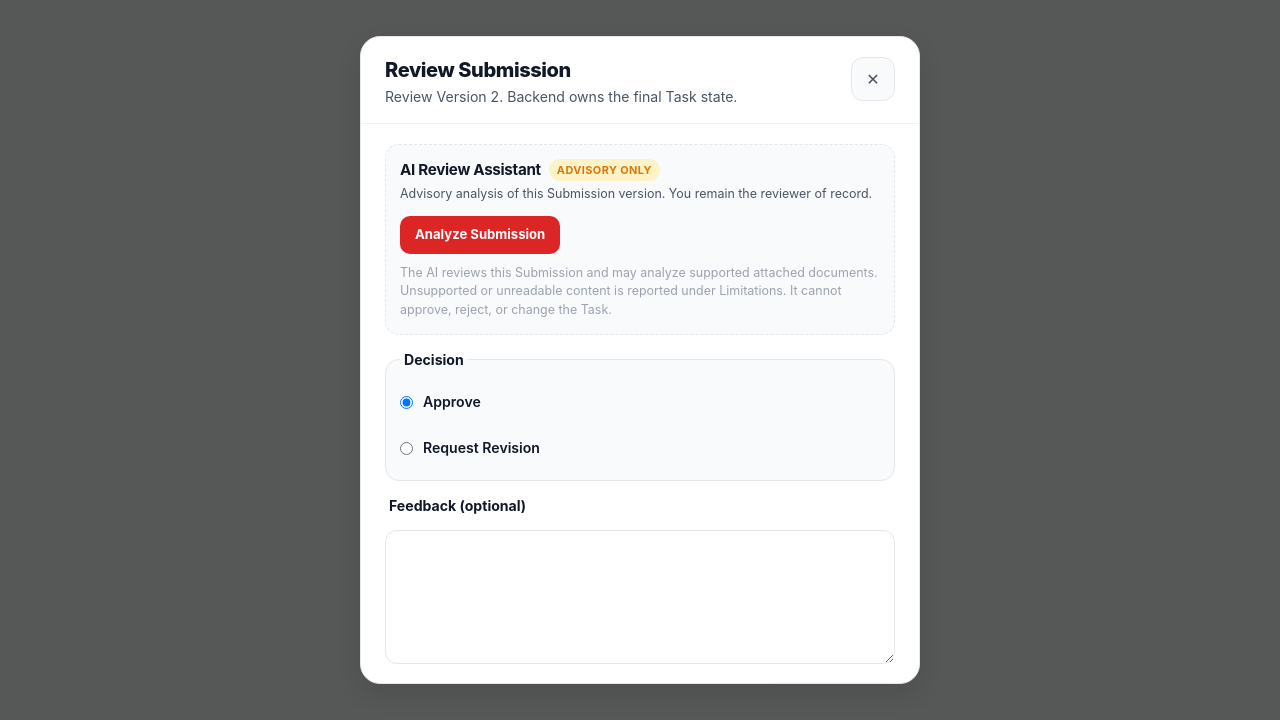
ReviewDialog AI review assistant › copies suggested feedback without submitting or changing the Decision
What coordinates should you click on to do the following:
click the button "Analyze Submission"
I would click on:
 (480, 235)
Its box is [400,216,560,254].
(page scrolled)
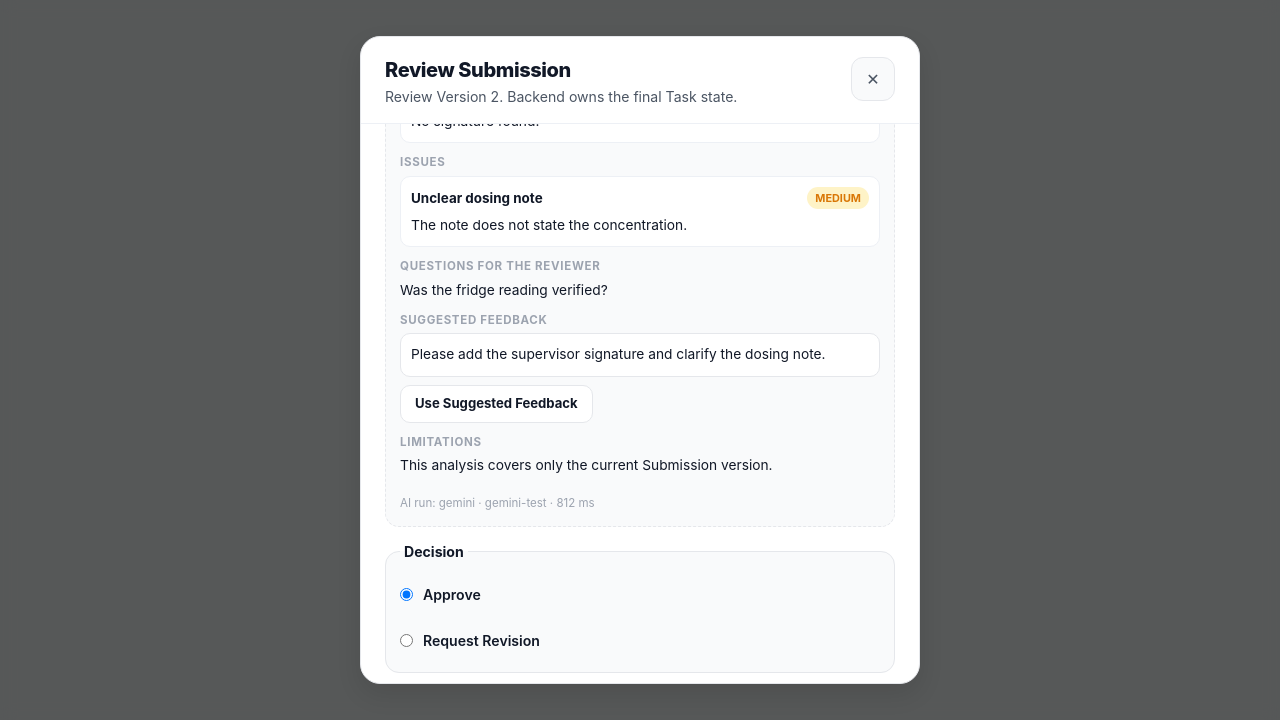
expect the button "Use Suggested Feedback" is shown: met
What coordinates should you click on to do the following:
click the button "Use Suggested Feedback"
I would click on:
 (496, 404)
Its box is [400,385,593,423].
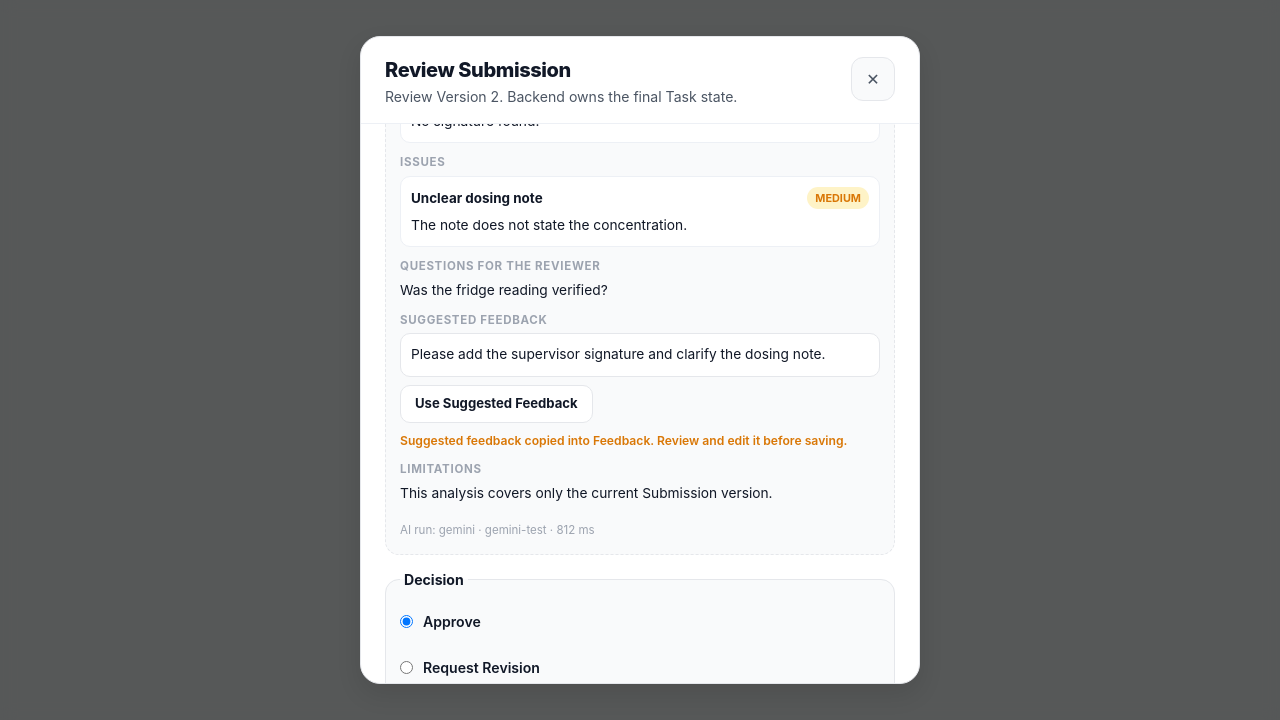
expect the radio button labelled "Approve" is checked: met, box [400,615,413,628]
expect the text "Suggested feedback copied into Feedback. Review and edit it before saving." is shown: met, box [400,431,880,450]
